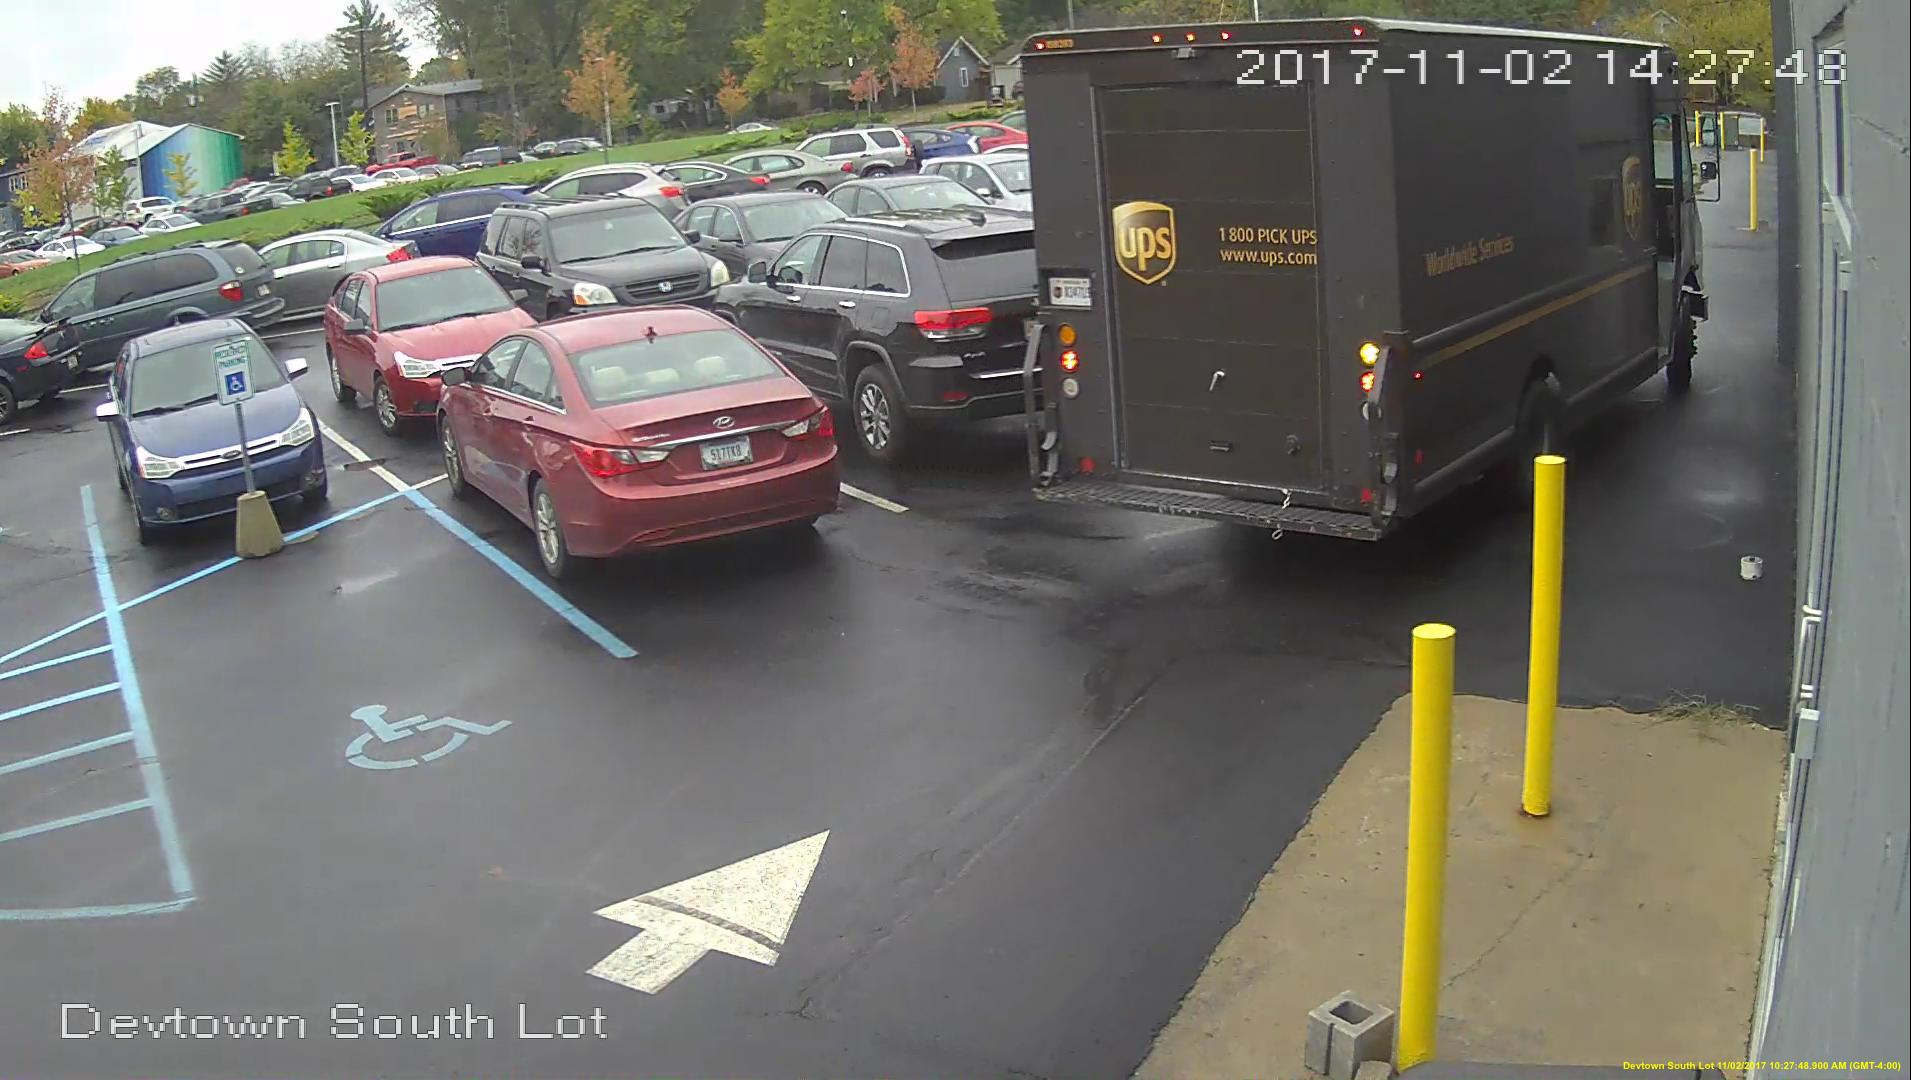ups_truck: (1028, 21, 1701, 547)
